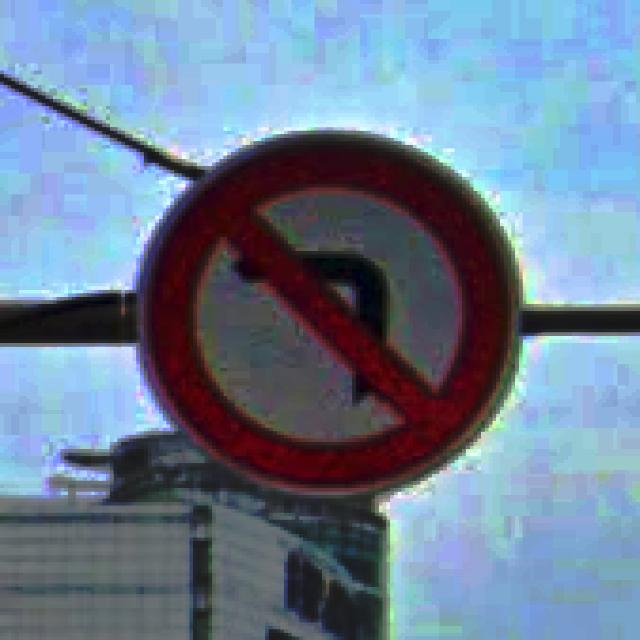noturnleft: (132, 124, 522, 495)
